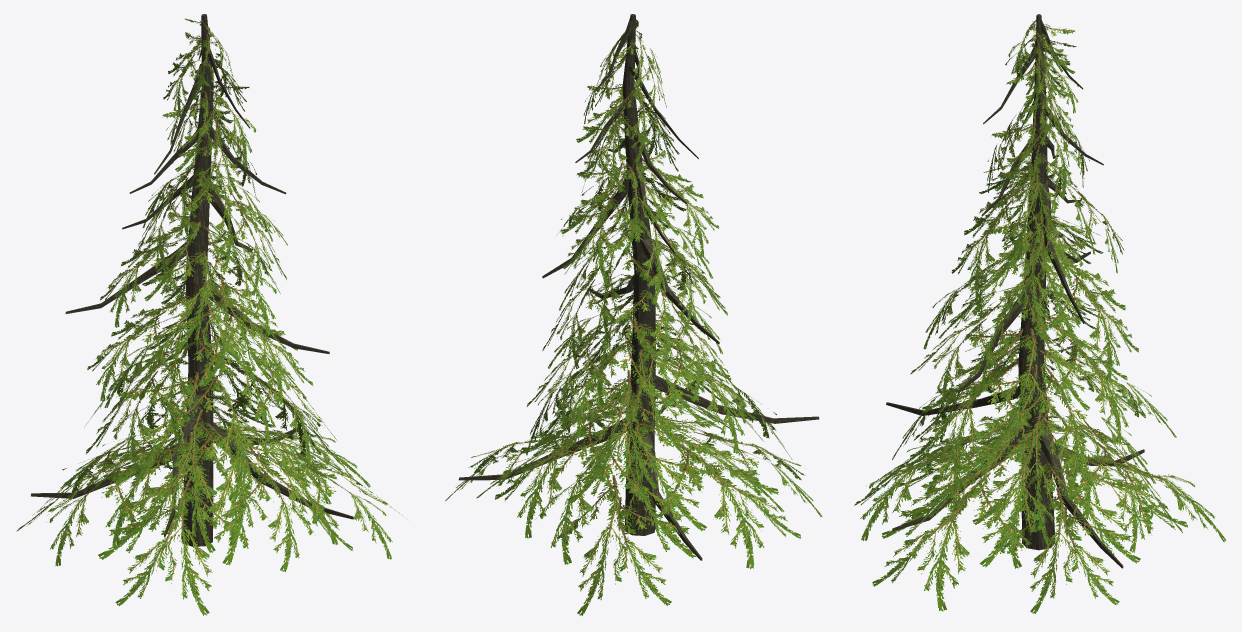
The model's file is Spruce2.fbx.
3 views of the same model, side by side, from view 1: azimuth 30°, elevation 25°; view 2: azimuth 150°, elevation 25°; view 3: azimuth 270°, elevation 25° (orthographic). The views are drawn at different scales.
Visible parts, largest first — view 1: branch1.006; view 2: branch1.006; view 3: branch1.006.
Boxes of the visible parts, x1=… form: branch1.006: x1=16, y1=14, x2=403, y2=615; branch1.006: x1=445, y1=14, x2=822, y2=615; branch1.006: x1=854, y1=14, x2=1225, y2=613.
Size of the model in its own units: 459 by 725 by 448.
1 material, 1 textured.
